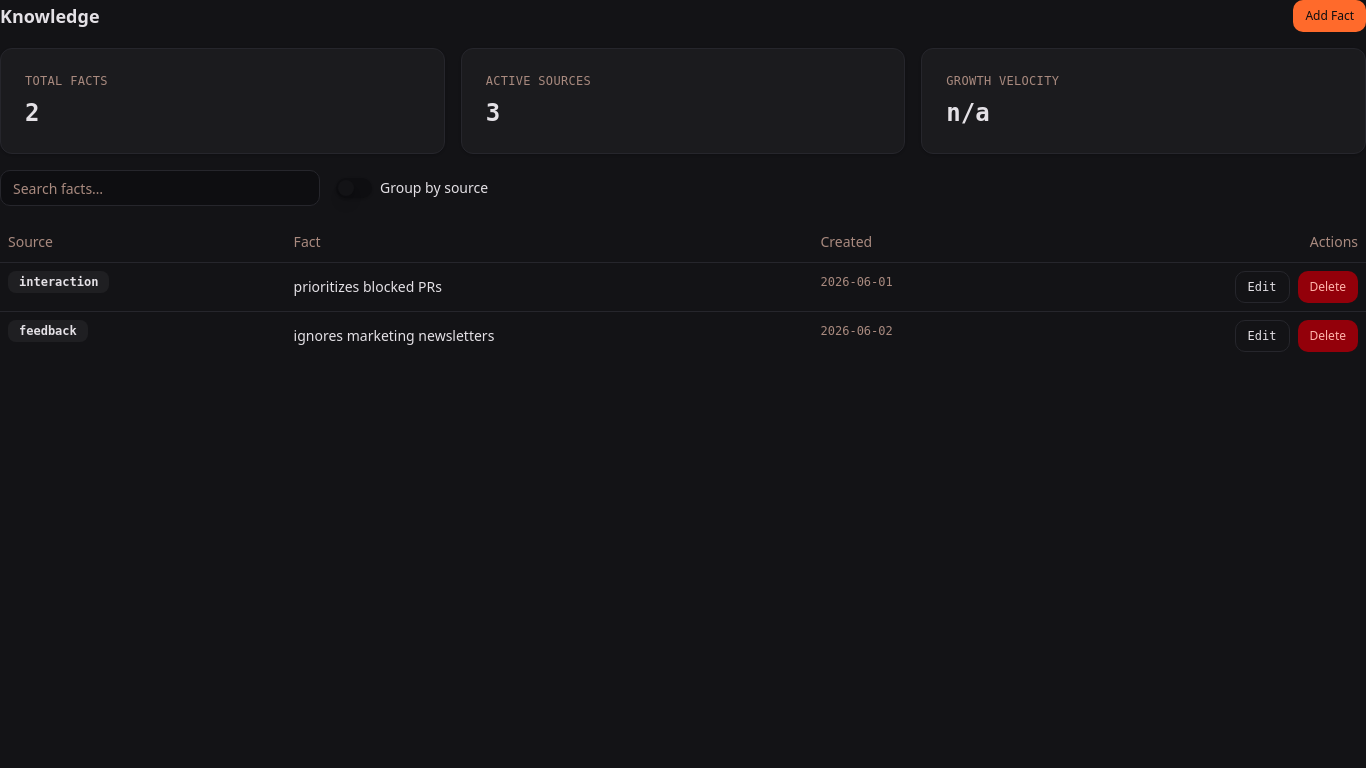
it: Knowledge page › a 501 delete surfaces the friendly "not configured" toast
Click the button with aria-label "delete f1" at (1328, 286), box [1298,270,1358,302]
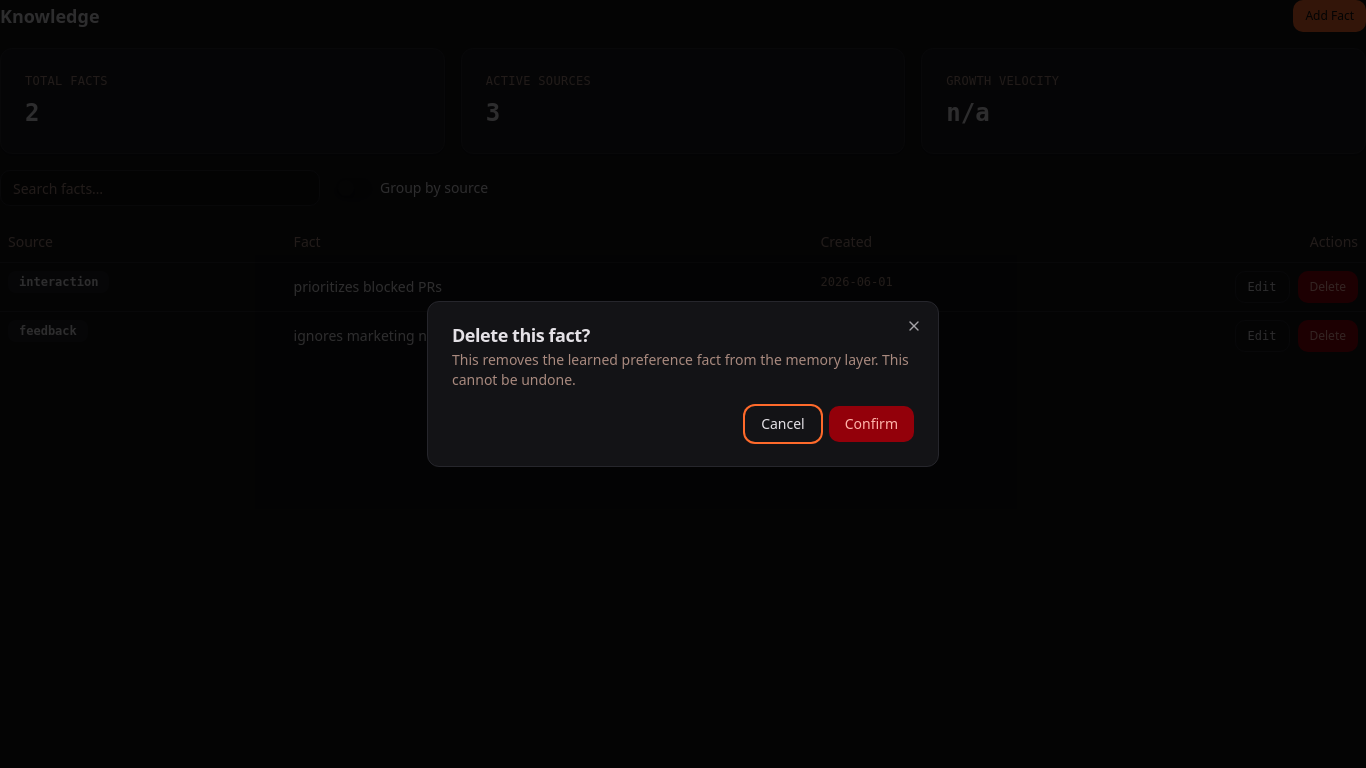
Click the button "Confirm" at (871, 424), box [829,406,914,442]
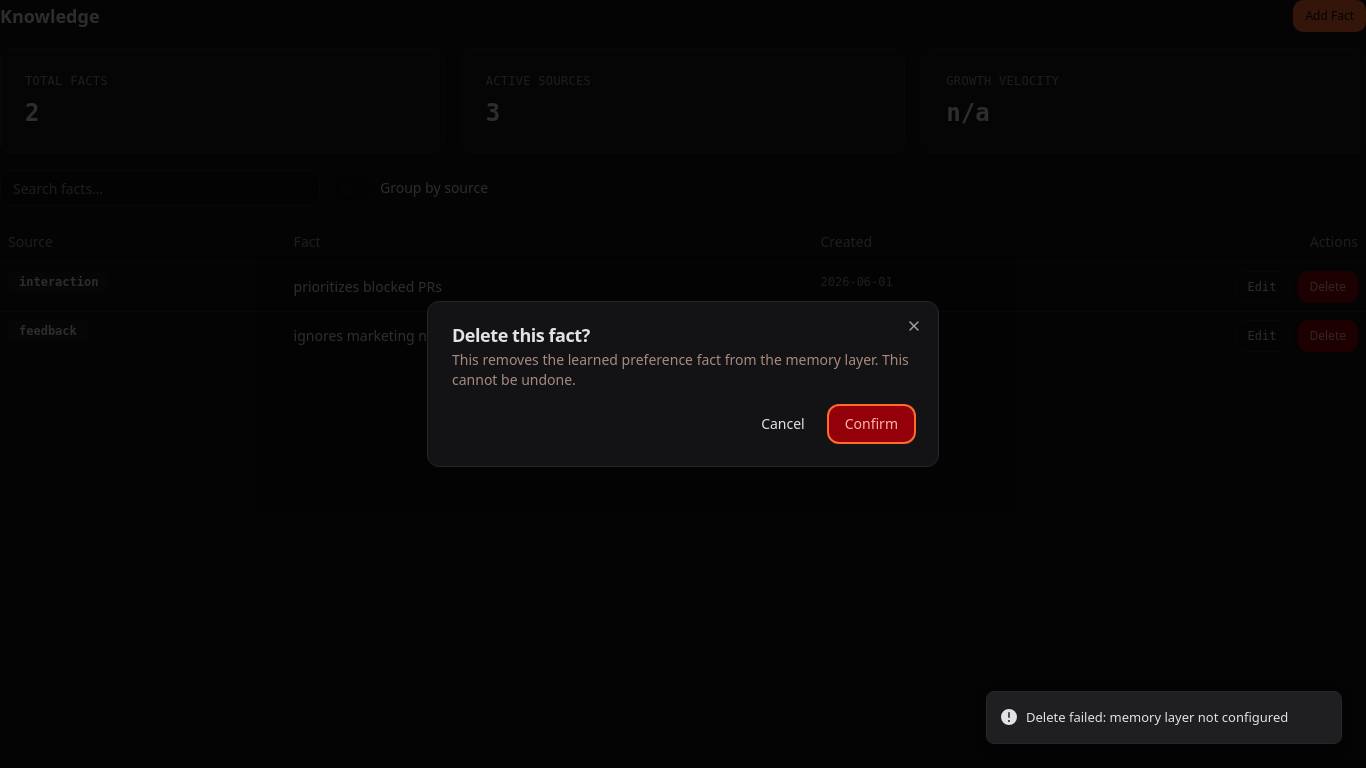
Now the text "Delete failed: memory layer not configured" is shown, box [1026,708,1288,727]
